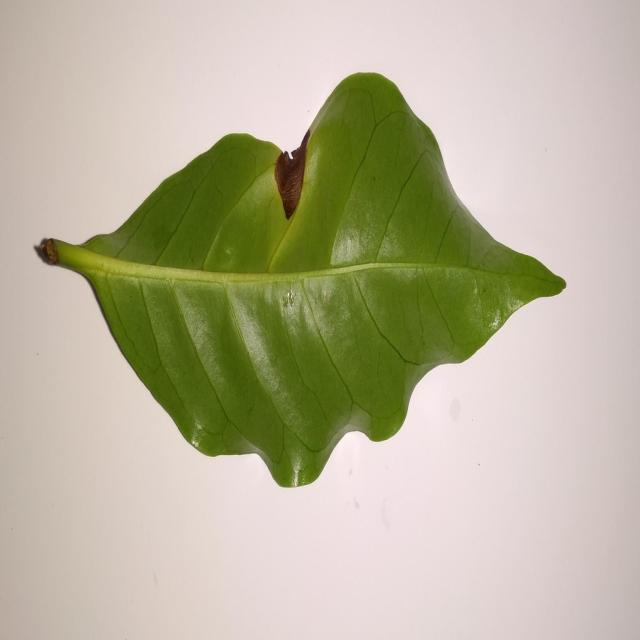phoma: (274, 129, 311, 219)
